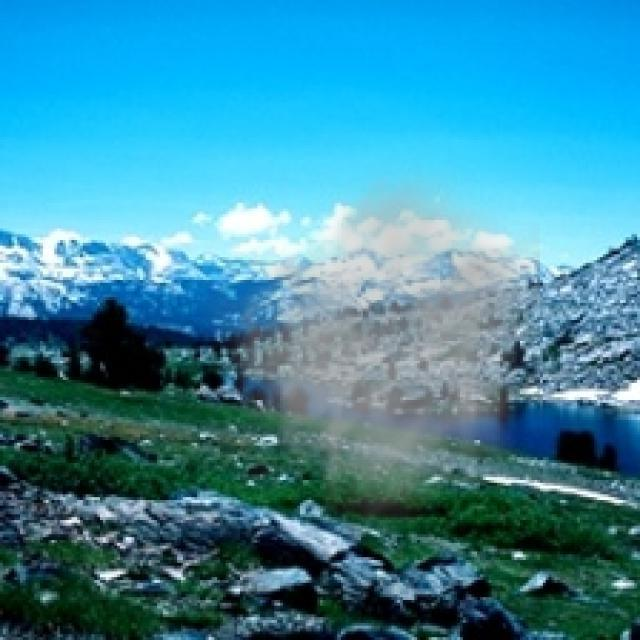Smoke: (197, 157, 540, 540)
